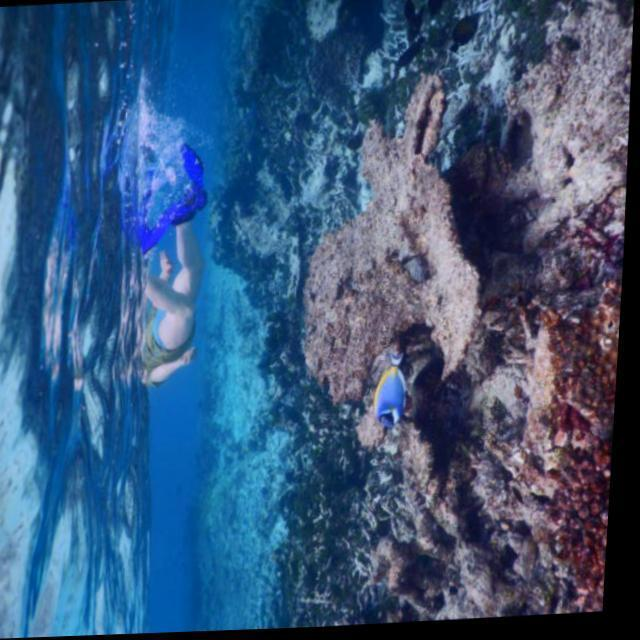Dead Coral: (306, 74, 490, 395)
